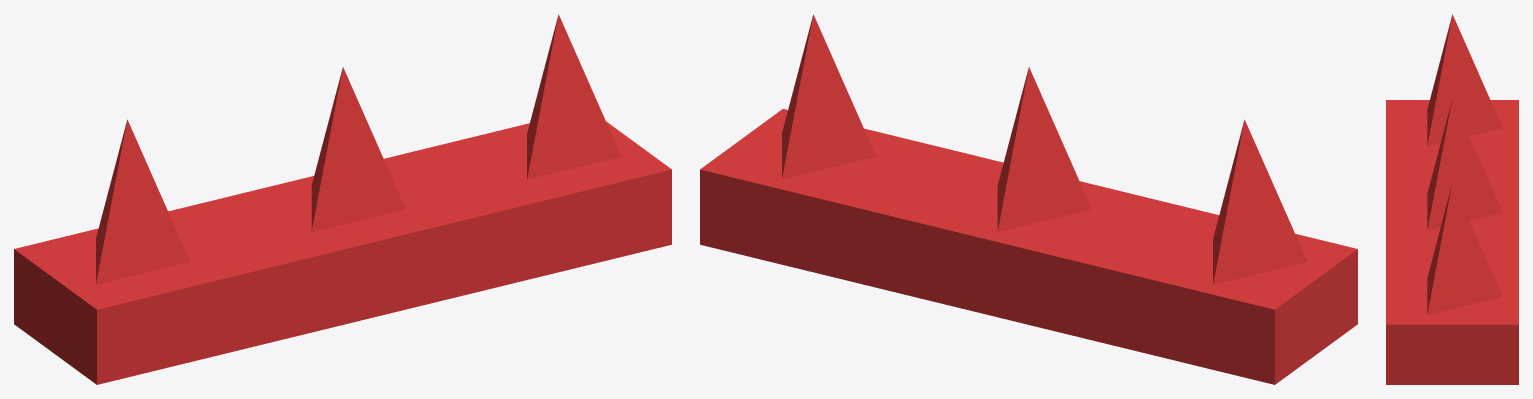
Rendered from Spikes.fbx.
3 renders of one model, left to right at view 1: azimuth 30°, elevation 25°; view 2: azimuth 150°, elevation 25°; view 3: azimuth 270°, elevation 25°, orthographic. The views are drawn at different scales.
Parts seen in each view (by area): view 1: Spikes; view 2: Spikes; view 3: Spikes.
Boxes of the visible parts, x1,y1,x2,y2 form: Spikes: (14, 14, 671, 384); Spikes: (700, 14, 1357, 384); Spikes: (1386, 14, 1518, 384).
Size of the model in its own units: 4 by 1.45 by 1.
